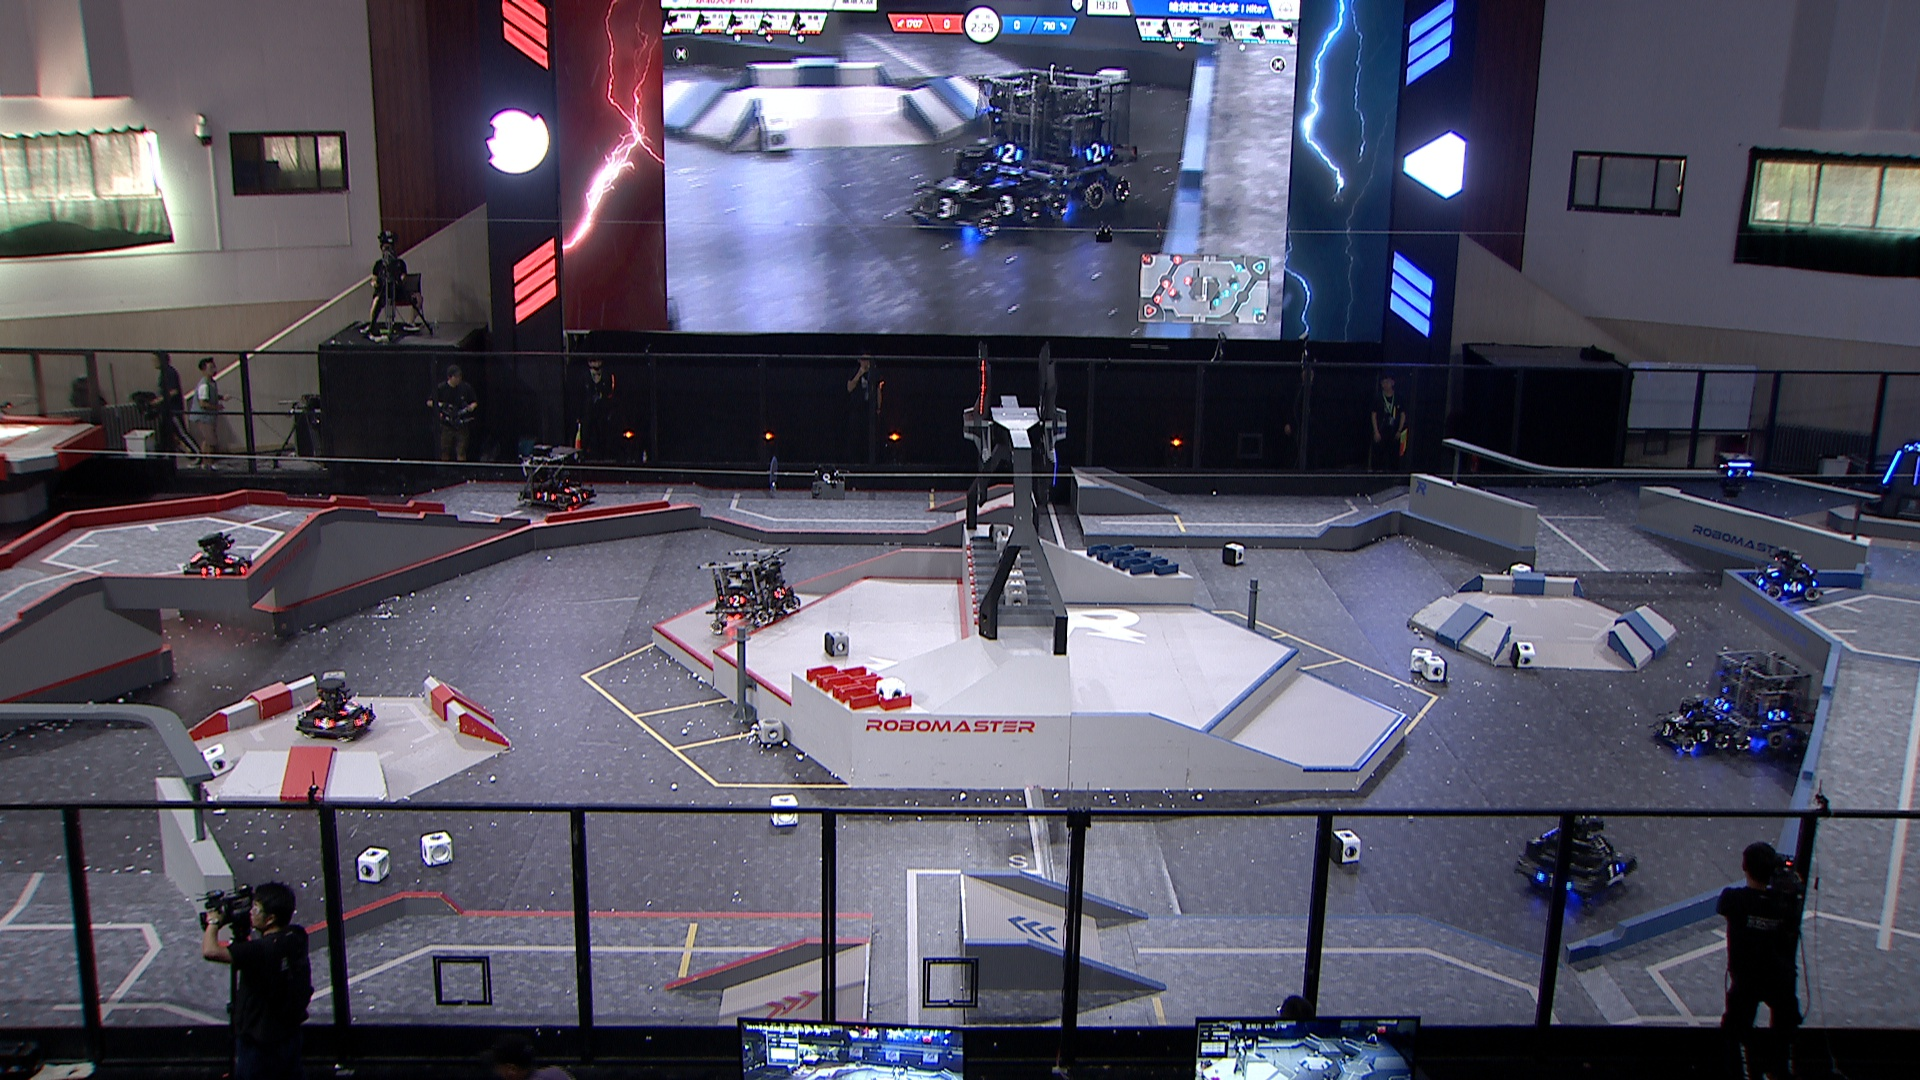armor: (1538, 869, 1572, 893), (1883, 448, 1903, 484), (1713, 695, 1733, 716), (1602, 864, 1625, 882), (1724, 467, 1754, 480), (338, 700, 359, 717), (1659, 719, 1676, 738), (1764, 562, 1783, 579), (1695, 728, 1713, 745), (199, 564, 223, 578), (314, 717, 338, 731), (1768, 708, 1789, 723), (1782, 582, 1807, 593), (728, 593, 746, 609), (1671, 712, 1691, 727), (1911, 458, 1920, 488), (535, 491, 556, 504), (237, 560, 255, 575), (353, 711, 368, 728), (223, 553, 243, 564), (773, 585, 789, 600), (571, 493, 589, 505), (560, 485, 583, 495), (1754, 572, 1764, 588)
base: (1859, 440, 1920, 526)
car: (1514, 806, 1638, 905), (1705, 647, 1818, 752), (699, 546, 802, 632), (294, 678, 378, 745), (514, 444, 596, 513), (1651, 692, 1731, 754), (181, 531, 256, 585), (1753, 547, 1822, 603)
ignore: (973, 67, 1139, 211), (906, 140, 1036, 243)
watcher: (1717, 452, 1756, 500)
